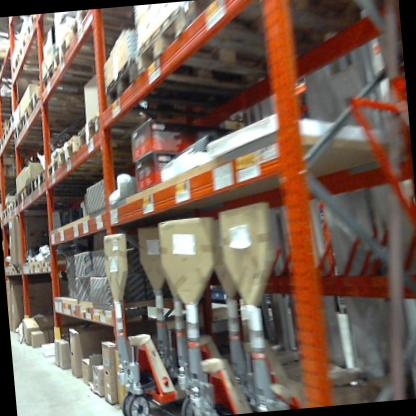pallet: (131, 0, 326, 103), (96, 45, 287, 127), (8, 53, 155, 155), (77, 107, 203, 162), (68, 2, 193, 49), (49, 27, 150, 83), (51, 126, 149, 180), (43, 153, 141, 188), (25, 79, 98, 122), (15, 102, 95, 131), (15, 179, 31, 207), (34, 168, 47, 194), (24, 177, 37, 202)
pallet_truck: (214, 187, 416, 411), (155, 211, 258, 414), (99, 224, 204, 416), (138, 224, 225, 416), (199, 213, 268, 415)
